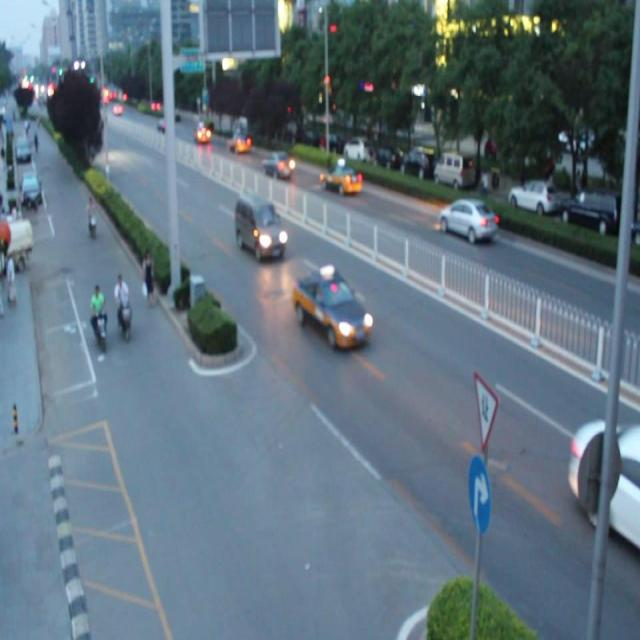car: (569, 414, 640, 560), (292, 266, 369, 350), (438, 194, 495, 247), (321, 164, 359, 192), (262, 150, 292, 179), (225, 129, 248, 152), (196, 122, 210, 142)
truck: (235, 194, 285, 259)
